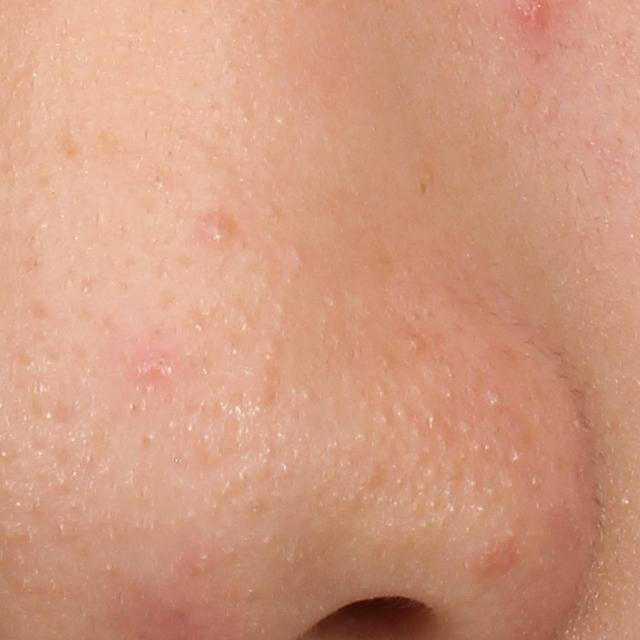comedo: (480, 383, 507, 412), (405, 332, 428, 362), (240, 492, 266, 517), (391, 400, 415, 427), (271, 454, 295, 481), (54, 467, 72, 498), (420, 461, 442, 485), (138, 429, 163, 450), (508, 444, 528, 467), (211, 478, 234, 498), (296, 382, 316, 404), (454, 415, 474, 436), (281, 548, 300, 569), (469, 501, 490, 519), (272, 431, 293, 449), (442, 501, 461, 519), (348, 430, 369, 446), (463, 475, 481, 493), (479, 482, 498, 499), (242, 584, 258, 604)
papule: (199, 206, 239, 253)
